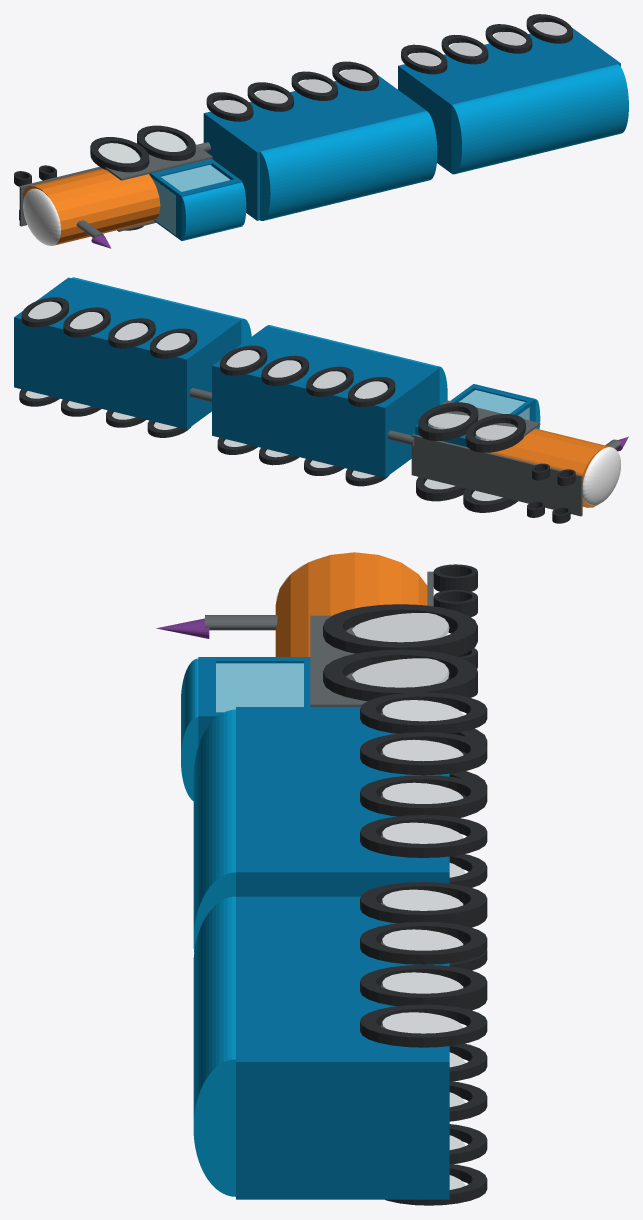
File: tinker.obj
3 views of the same model, one above another, from view 1: azimuth 30°, elevation 25°; view 2: azimuth 150°, elevation 25°; view 3: azimuth 270°, elevation 25° (orthographic). The views are drawn at different scales.
Parts seen in each view (by area): view 1: group_0_40919, group_0_30377, group_0_2829873, group_0_16089887, group_0_14541540, group_0_6383466, group_0_8768998, group_0_16448250; view 2: group_0_30377, group_0_2829873, group_0_6383466, group_0_14541540, group_0_16089887, group_0_16448250, group_0_40919, group_0_8768998; view 3: group_0_30377, group_0_2829873, group_0_40919, group_0_14541540, group_0_16089887, group_0_8768998, group_0_6383466.
Part boxes in pixels (x1,y1,x2,y2): group_0_40919: (181, 64, 628, 240); group_0_30377: (149, 28, 620, 240); group_0_2829873: (14, 14, 572, 230); group_0_16089887: (23, 168, 160, 245); group_0_14541540: (98, 22, 566, 163); group_0_6383466: (19, 142, 212, 238); group_0_8768998: (152, 165, 230, 235); group_0_16448250: (23, 188, 60, 245); group_0_30377: (14, 277, 535, 477); group_0_2829873: (19, 297, 575, 523); group_0_6383466: (189, 388, 621, 516); group_0_14541540: (25, 301, 517, 500); group_0_16089887: (490, 428, 611, 507); group_0_16448250: (582, 447, 620, 505); group_0_40919: (71, 277, 540, 429); group_0_8768998: (459, 390, 529, 420); group_0_30377: (198, 657, 449, 1199); group_0_2829873: (323, 564, 487, 1205); group_0_40919: (181, 658, 235, 1196); group_0_14541540: (352, 613, 465, 1189); group_0_16089887: (275, 552, 427, 656); group_0_8768998: (216, 663, 303, 712); group_0_6383466: (205, 571, 433, 706).
Bounding box in the file's own units: 204 × 29 × 52.5.
